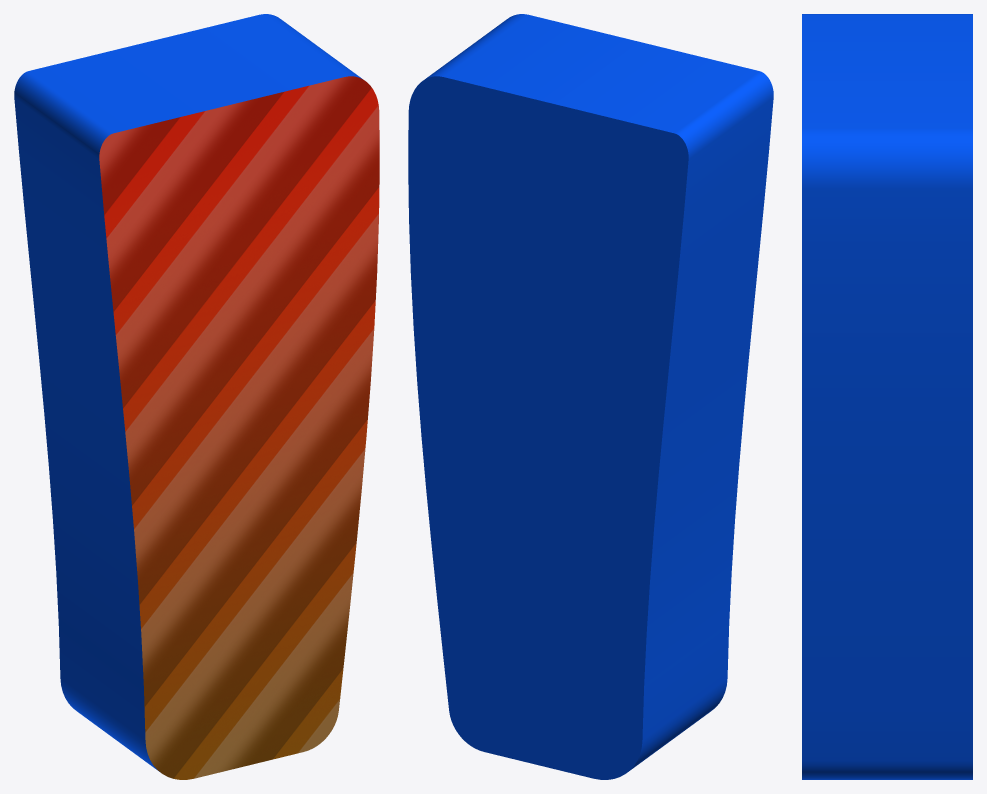
3 renders of one model, left to right at view 1: azimuth 30°, elevation 25°; view 2: azimuth 150°, elevation 25°; view 3: azimuth 270°, elevation 25°, orthographic.
Parts seen in each view (by area): view 1: I; view 2: I; view 3: I.
Part boxes in pixels (box(x1,y1,x2,y2)): I: box(14, 14, 379, 779); I: box(408, 14, 773, 779); I: box(802, 14, 972, 779).
Bounding box in the file's own units: 38.05 × 86.23 × 20.
Materials: 2 (1 with a texture image).
